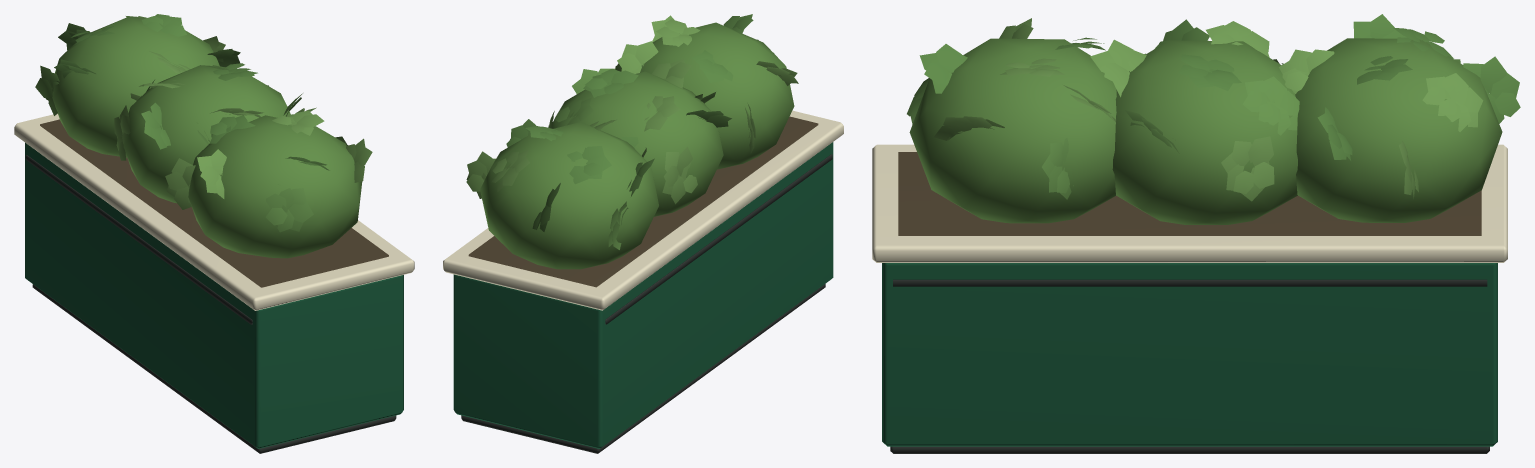
File: deck_planter.glb
3 renders of one model, left to right at view 1: azimuth 30°, elevation 25°; view 2: azimuth 150°, elevation 25°; view 3: azimuth 270°, elevation 25°, orthographic. The views are drawn at different scales.
Visible parts, largest first — view 1: Box, Shrub2Core, Shrub0Core, Cap, Shrub1Core, Soil, Foot, Shrub2Leaves7, Groove-1, Shrub2Leaves9, Shrub2Leaves4, Shrub1Leaves4 (+7 smaller); view 2: Box, Shrub0Core, Cap, Shrub2Core, Shrub1Core, Soil, Foot, Groove-1, Shrub1Leaves9, Shrub0Leaves1, Shrub1Leaves0, Shrub2Leaves3 (+11 smaller); view 3: Box, Shrub2Core, Shrub0Core, Shrub1Core, Cap, Soil, Foot, Groove1, Shrub1Leaves8, Shrub0Leaves3, Shrub1Leaves3, Shrub0Leaves6 (+13 smaller).
Part boxes in pixels (<box>): Box: <box>25,142,403,448</box>; Shrub2Core: <box>188,115,362,258</box>; Shrub0Core: <box>52,16,219,157</box>; Cap: <box>14,113,414,310</box>; Shrub1Core: <box>123,65,290,203</box>; Soil: <box>40,119,388,287</box>; Foot: <box>32,284,396,453</box>; Shrub2Leaves7: <box>265,184,313,232</box>; Groove-1: <box>25,155,252,324</box>; Shrub2Leaves9: <box>165,158,195,209</box>; Shrub2Leaves4: <box>197,149,226,198</box>; Shrub1Leaves4: <box>141,102,170,149</box>; Box: <box>453,142,833,448</box>; Shrub0Core: <box>480,122,658,269</box>; Cap: <box>443,110,843,310</box>; Shrub2Core: <box>640,22,794,169</box>; Shrub1Core: <box>552,71,723,216</box>; Soil: <box>468,116,818,287</box>; Foot: <box>461,284,825,453</box>; Groove-1: <box>605,154,832,324</box>; Shrub1Leaves9: <box>662,146,697,204</box>; Shrub0Leaves1: <box>567,146,611,184</box>; Shrub1Leaves0: <box>583,68,638,97</box>; Shrub2Leaves3: <box>617,41,658,73</box>; Box: <box>882,263,1497,446</box>; Shrub2Core: <box>909,38,1116,223</box>; Shrub0Core: <box>1295,38,1502,222</box>; Shrub1Core: <box>1112,40,1297,224</box>; Cap: <box>872,144,1507,262</box>; Soil: <box>898,152,1481,235</box>; Foot: <box>890,446,1489,453</box>; Groove1: <box>893,279,1487,286</box>; Shrub1Leaves8: <box>1221,136,1274,201</box>; Shrub0Leaves3: <box>1422,73,1483,131</box>; Shrub1Leaves3: <box>1242,76,1299,135</box>; Shrub0Leaves6: <box>1463,56,1520,123</box>.
Size of the model in its own units: 0.4974 by 0.7323 by 1.18.
